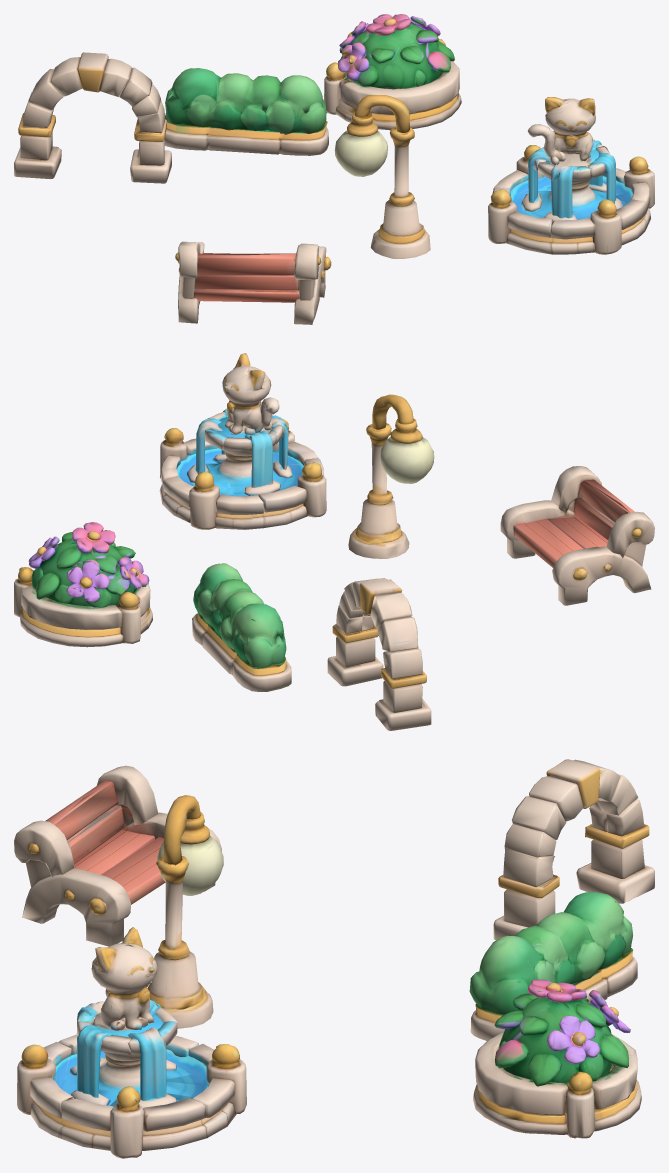
File: props_town.glb
3 renders of one model, top to bottom at view 1: azimuth 30°, elevation 25°; view 2: azimuth 150°, elevation 25°; view 3: azimuth 270°, elevation 25°, orthographic. The views are drawn at different scales.
Size of the model in its own units: 0.9492 by 0.2925 by 0.8477.
1 material, 1 textured.
